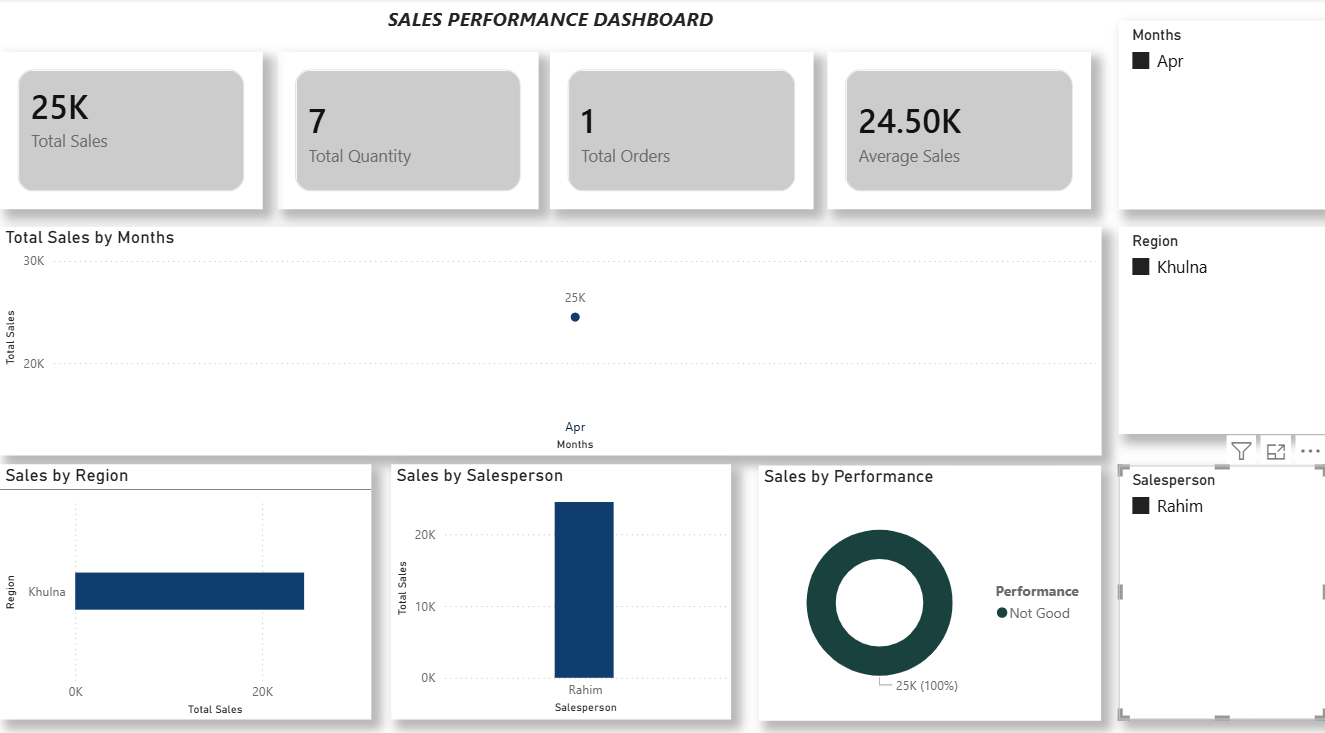

The page's visual inventory and layout, read from the dashboard file:
{"tool":"powerbi","page":{"name":"Page 1","canvas":[1280,720],"ordinal":0},"visuals":[{"type":"cardVisual","fields":{"Data":["Sales.Total Quantity"]},"box":[267.8,51.9,252.1,152],"z":0},{"type":"cardVisual","fields":{"Data":["Sales.Total Sales"]},"box":[0,51.9,253.4,152],"z":1000},{"type":"cardVisual","fields":{"Data":["Sales.Total Orders"]},"box":[530.8,51.9,254.6,152],"z":2000},{"type":"cardVisual","fields":{"Data":["Sales.Average Sales"]},"box":[798.7,51.9,254.6,152],"z":3000},{"type":"lineChart","fields":{"Category":["Sales.Months"],"Y":["Sales.Total Sales"]},"box":[0,220.8,1062.9,220.8],"z":4000},{"type":"clusteredBarChart","title":"Sales by Region","fields":{"Category":["Sales.Region"],"Y":["Sales.Total Sales"]},"box":[0,450,358.3,246.1],"z":5000},{"type":"clusteredColumnChart","title":"Sales by Salesperson","fields":{"Category":["Sales.Salesperson"],"Y":["Sales.Total Sales"]},"box":[377.6,450,328.2,246.1],"z":6000},{"type":"donutChart","title":"Sales by Performance","fields":{"Category":["Sales.Performance"],"Y":["Sales.Total Sales"]},"box":[732.3,451.2,330.6,246.1],"z":7000},{"type":"slicer","fields":{"Values":["Sales.Months"]},"box":[1079.8,21.7,200.3,182.2],"z":8000},{"type":"slicer","fields":{"Values":["Sales.Region"]},"box":[1079.8,220.8,200.3,200.3],"z":9000},{"type":"slicer","fields":{"Values":["Sales.Salesperson"]},"box":[1079.8,451.2,200.3,244.9],"z":10000},{"type":"textbox","box":[9.7,2.4,1043.6,38.6],"z":11000}]}

Visuals, with their boxes in screenshot pixels (x1, y1, x2, y2):
cardVisual - Sales.Total Quantity: crop(275, 47, 537, 205)
cardVisual - Sales.Total Sales: crop(0, 47, 260, 205)
cardVisual - Sales.Total Orders: crop(548, 47, 812, 205)
cardVisual - Sales.Average Sales: crop(826, 47, 1091, 205)
lineChart - Sales.Months x Sales.Total Sales: crop(0, 222, 1101, 452)
"Sales by Region" clusteredBarChart: crop(0, 461, 369, 716)
"Sales by Salesperson" clusteredColumnChart: crop(389, 461, 730, 716)
"Sales by Performance" donutChart: crop(757, 462, 1101, 717)
slicer - Sales.Months: crop(1118, 16, 1324, 205)
slicer - Sales.Region: crop(1118, 222, 1324, 431)
slicer - Sales.Salesperson: crop(1118, 462, 1324, 716)
textbox: crop(7, 0, 1091, 36)
